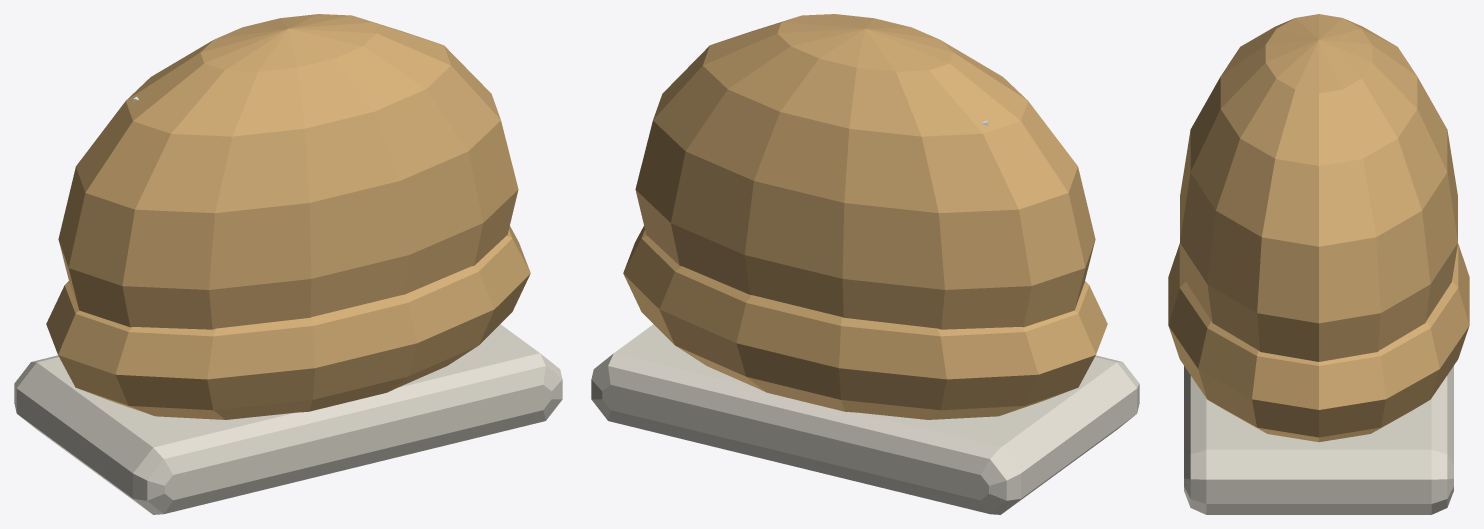
The model's file is game-ui-icon-library-food-loaf-1ce1bc54.glb.
The picture shows the model from 3 angles, left to right: view 1: azimuth 30°, elevation 25°; view 2: azimuth 150°, elevation 25°; view 3: azimuth 270°, elevation 25°; orthographic projection. The views are drawn at different scales.
Parts seen in each view (by area): view 1: food-loaf; view 2: food-loaf; view 3: food-loaf.
Boxes of the visible parts, box(x1,y1,x2,y2) form: food-loaf: box(14, 14, 562, 514); food-loaf: box(591, 14, 1139, 514); food-loaf: box(1168, 14, 1469, 514).
Bounding box in the file's own units: 0.98 × 0.8052 × 0.5732.
